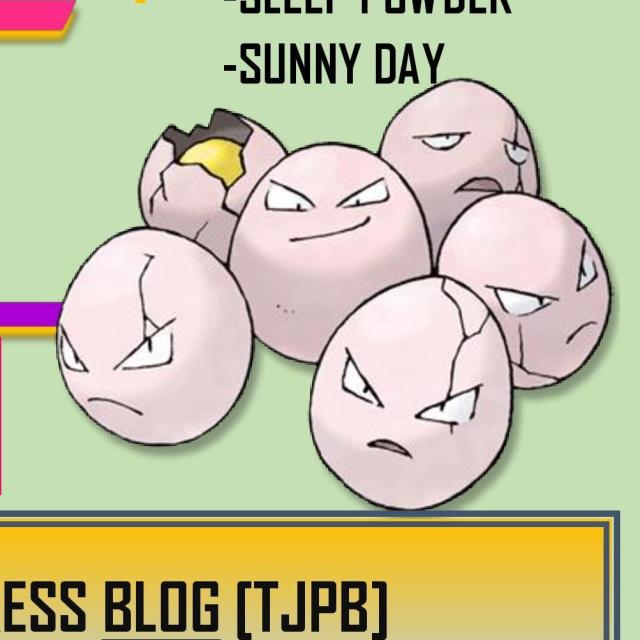Exeggcute: (62, 92, 610, 486)
